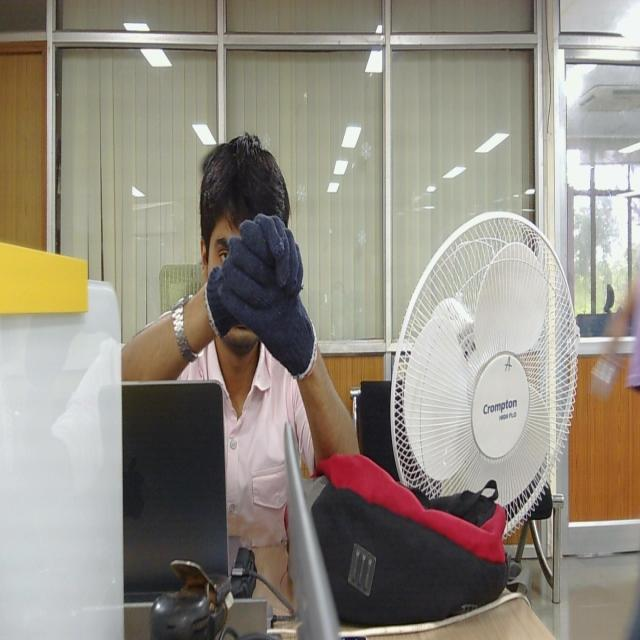Gloves-Detection: (206, 211, 317, 377)
